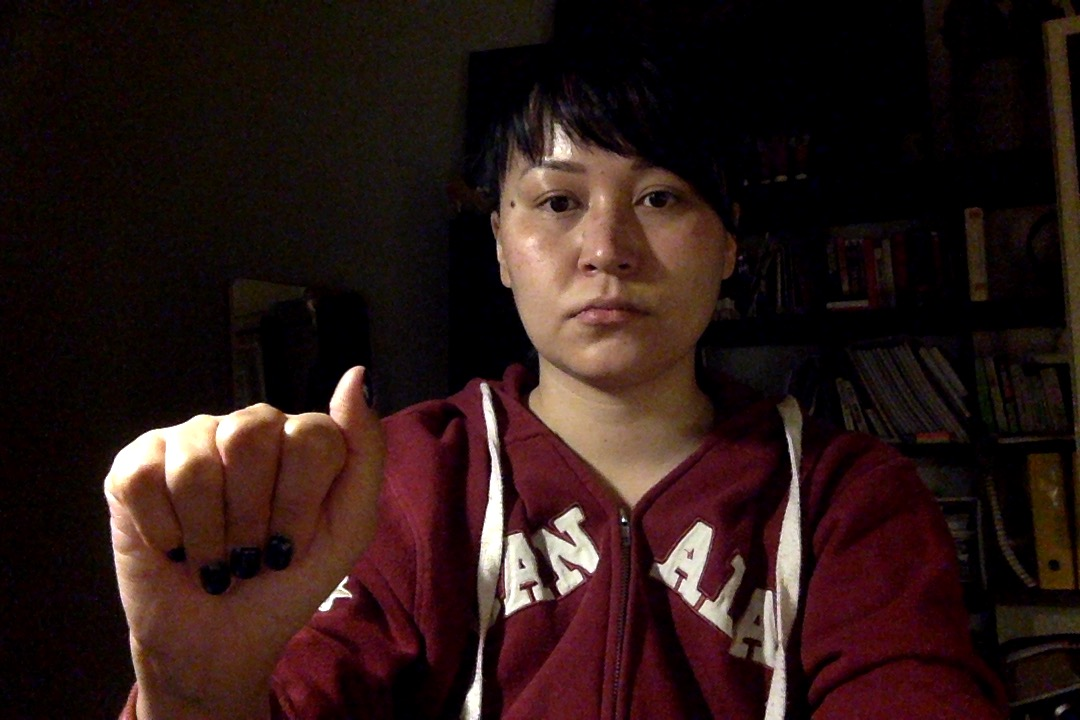a: (73, 332, 412, 710)
